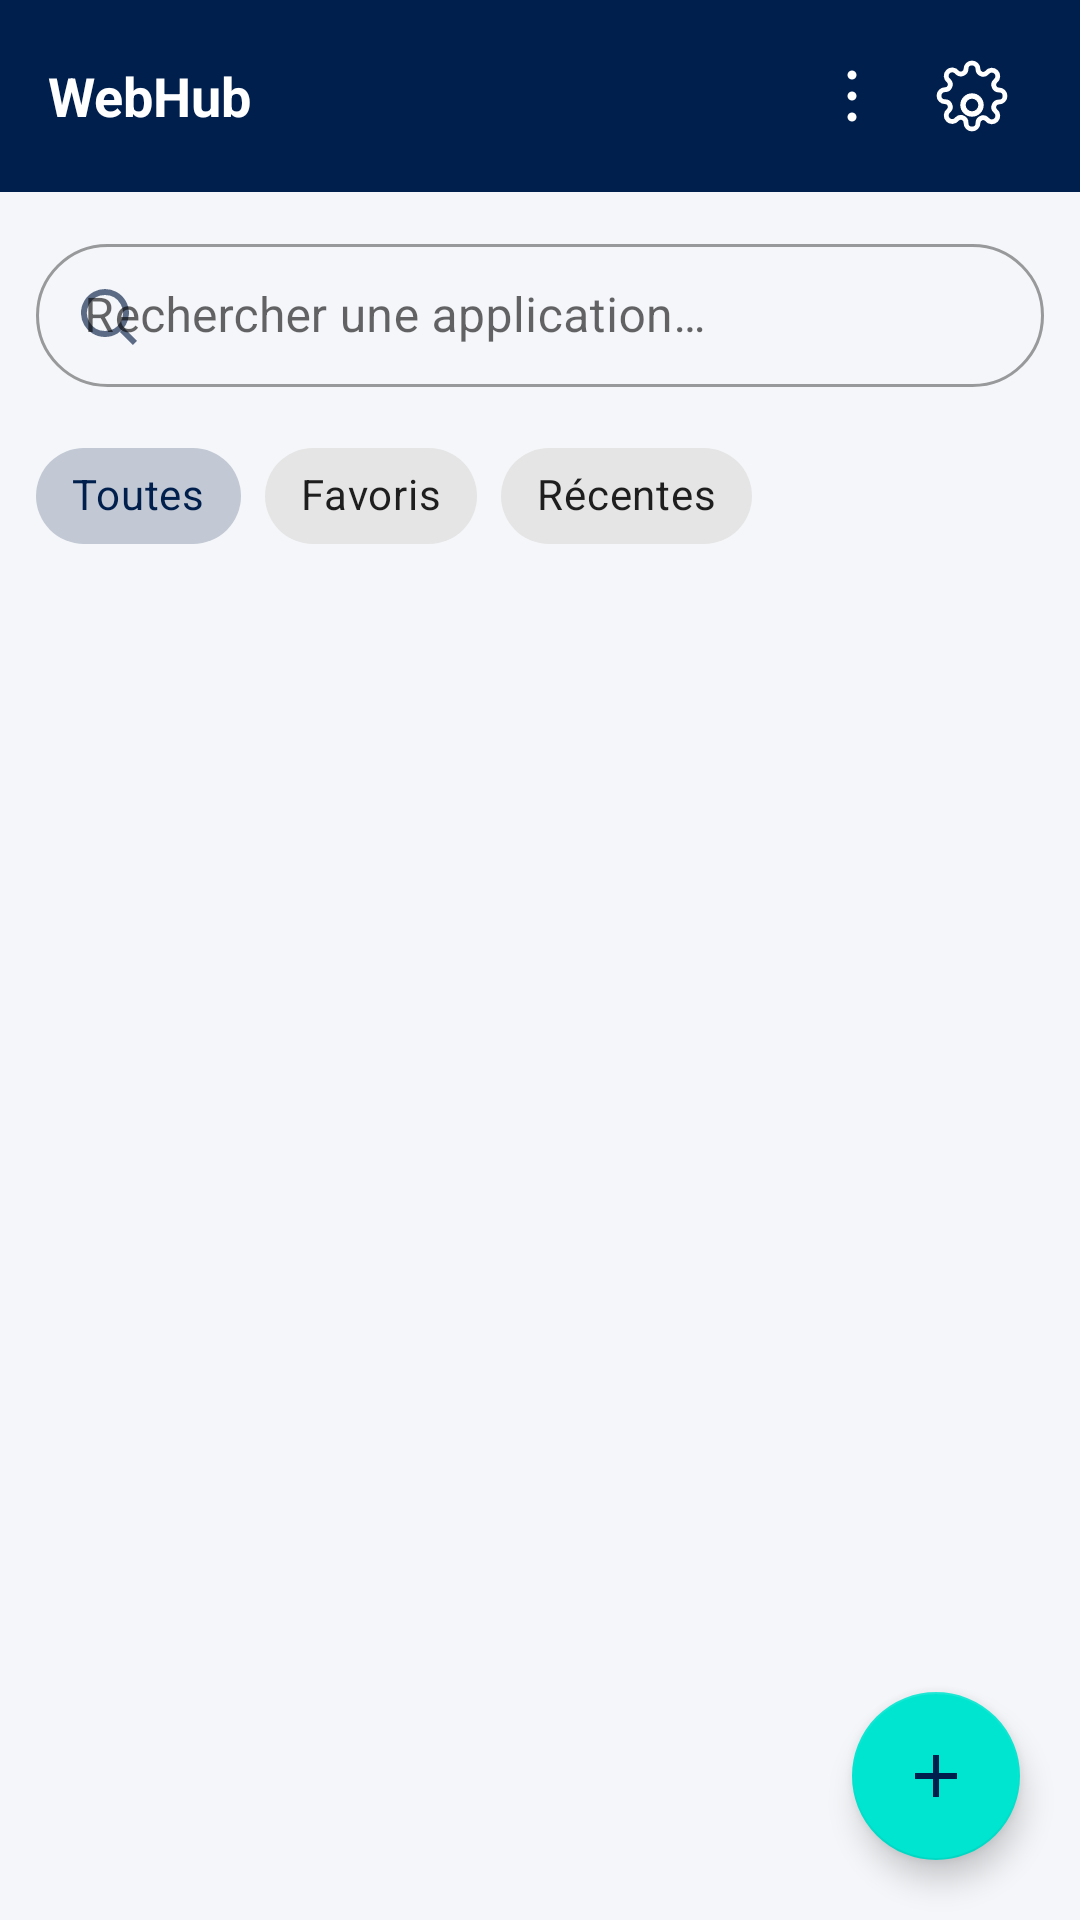

Where to tap for icons on this 1080px×1920px app screen, as [x,y]:
Ajouter une Web App: [936,1776]
Paramètres: [972,96]
